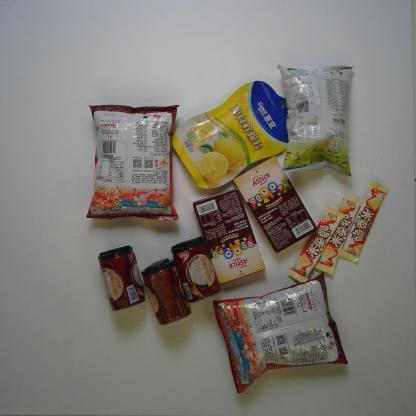Canned Food: (139, 257, 192, 328), (171, 236, 223, 304), (98, 245, 146, 312)
Chocolate: (286, 204, 346, 284), (313, 192, 361, 278), (340, 181, 388, 265)
Dessert: (233, 155, 318, 254), (193, 188, 266, 284)
Dried Fruit: (172, 80, 291, 190)
Puffed Food: (211, 272, 349, 393), (84, 104, 178, 223), (276, 61, 356, 178)
